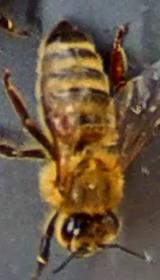varroa_mite: (40, 106, 74, 142)
